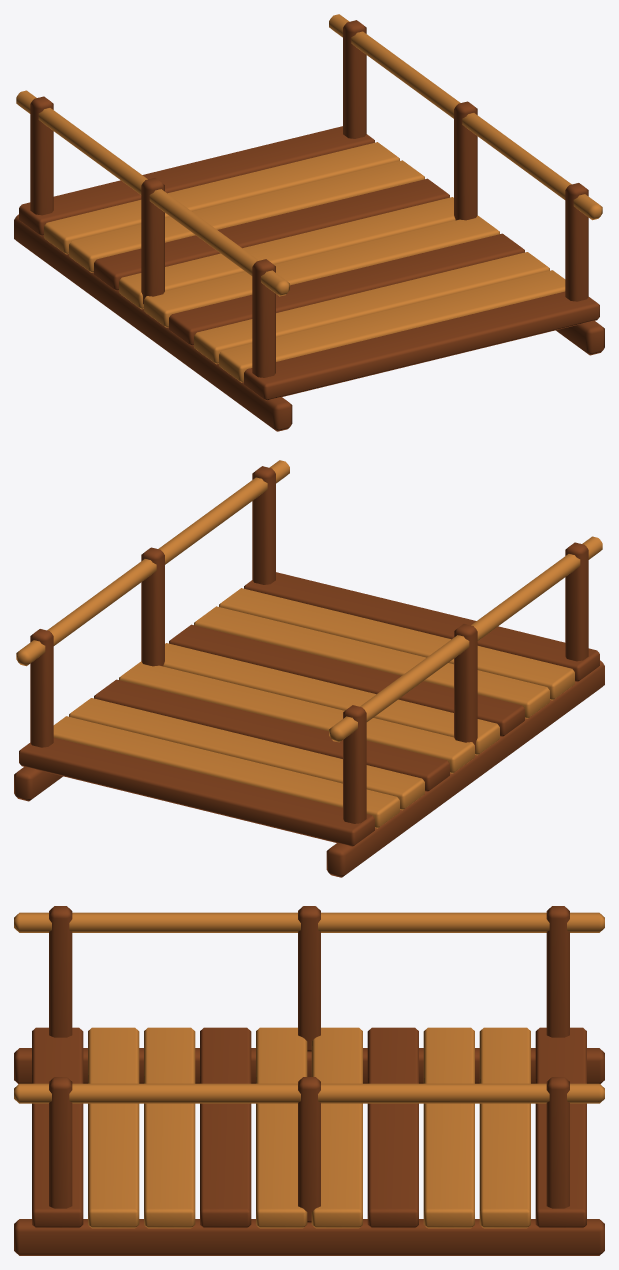
The model's file is bridge.glb.
3 views of the same model, one above another, from view 1: azimuth 30°, elevation 25°; view 2: azimuth 150°, elevation 25°; view 3: azimuth 270°, elevation 25° (orthographic). The views are drawn at different scales.
Visible parts, largest first — view 1: Plank00, Plank02, Plank01, Plank03, Plank04, Plank08, Plank07, Plank06, Plank09, Plank05, support, rail (+8 smaller); view 2: Plank09, Plank07, Plank08, Plank06, Plank05, Plank01, Plank02, Plank03, Plank00, Plank04, support, rail (+8 smaller); view 3: support.001, rail, rail.001, Plank03, Plank06, Plank01, Plank02, Plank07, Plank08, Plank04, Plank05, Plank00 (+8 smaller).
Part boxes in pixels (left/top/right/bottom): Plank00: left=244, top=291, right=599, bottom=400; Plank02: left=194, top=252, right=549, bottom=364; Plank01: left=219, top=270, right=565, bottom=382; Plank03: left=169, top=233, right=524, bottom=345; Plank04: left=144, top=215, right=499, bottom=327; Plank08: left=44, top=142, right=399, bottom=254; Plank07: left=69, top=160, right=424, bottom=272; Plank06: left=94, top=178, right=449, bottom=290; Plank09: left=19, top=126, right=374, bottom=236; Plank05: left=119, top=197, right=455, bottom=309; support: left=14, top=214, right=292, bottom=431; rail: left=16, top=90, right=289, bottom=296; Plank09: left=19, top=737, right=374, bottom=846; Plank07: left=69, top=698, right=424, bottom=810; Plank08: left=53, top=716, right=399, bottom=828; Plank06: left=94, top=679, right=449, bottom=791; Plank05: left=119, top=661, right=474, bottom=773; Plank01: left=219, top=588, right=574, bottom=700; Plank02: left=194, top=606, right=549, bottom=718; Plank03: left=169, top=624, right=524, bottom=736; Plank00: left=244, top=572, right=599, bottom=682; Plank04: left=163, top=643, right=499, bottom=755; support: left=326, top=660, right=604, bottom=877; rail: left=329, top=536, right=602, bottom=742; support.001: left=14, top=1219, right=604, bottom=1255; rail: left=14, top=912, right=604, bottom=932; rail.001: left=14, top=1083, right=604, bottom=1103; Plank03: left=200, top=1027, right=251, bottom=1228; Plank06: left=367, top=1027, right=418, bottom=1228; Plank01: left=88, top=1027, right=139, bottom=1228; Plank02: left=144, top=1027, right=195, bottom=1228; Plank07: left=423, top=1027, right=474, bottom=1228; Plank08: left=479, top=1027, right=530, bottom=1228; Plank04: left=256, top=1027, right=307, bottom=1228; Plank05: left=311, top=1027, right=362, bottom=1228; Plank00: left=32, top=1027, right=83, bottom=1228.
Bounding box in the file's own units: 2.8 × 1.23 × 3.8.
